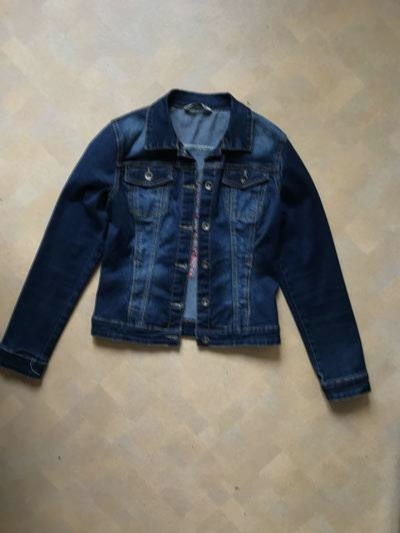Blazer: (3, 89, 396, 418)
